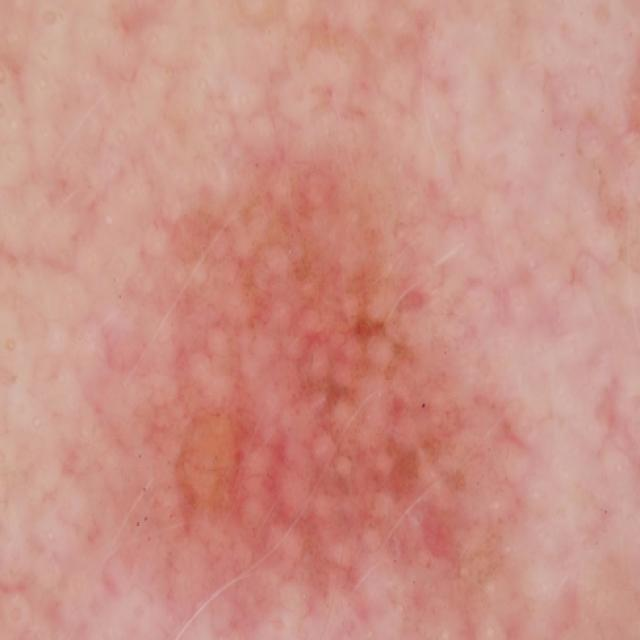Carcinoma: (105, 133, 536, 640)
